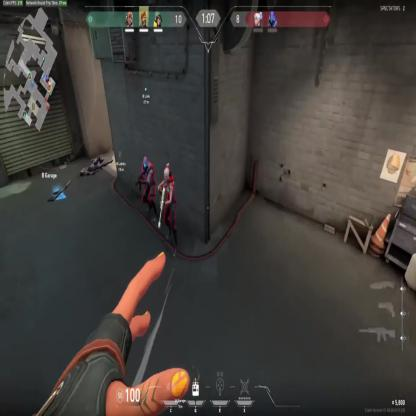enemy: (158, 163, 178, 259), (137, 156, 157, 223)
enemy_head: (163, 164, 170, 181), (142, 156, 148, 171)
